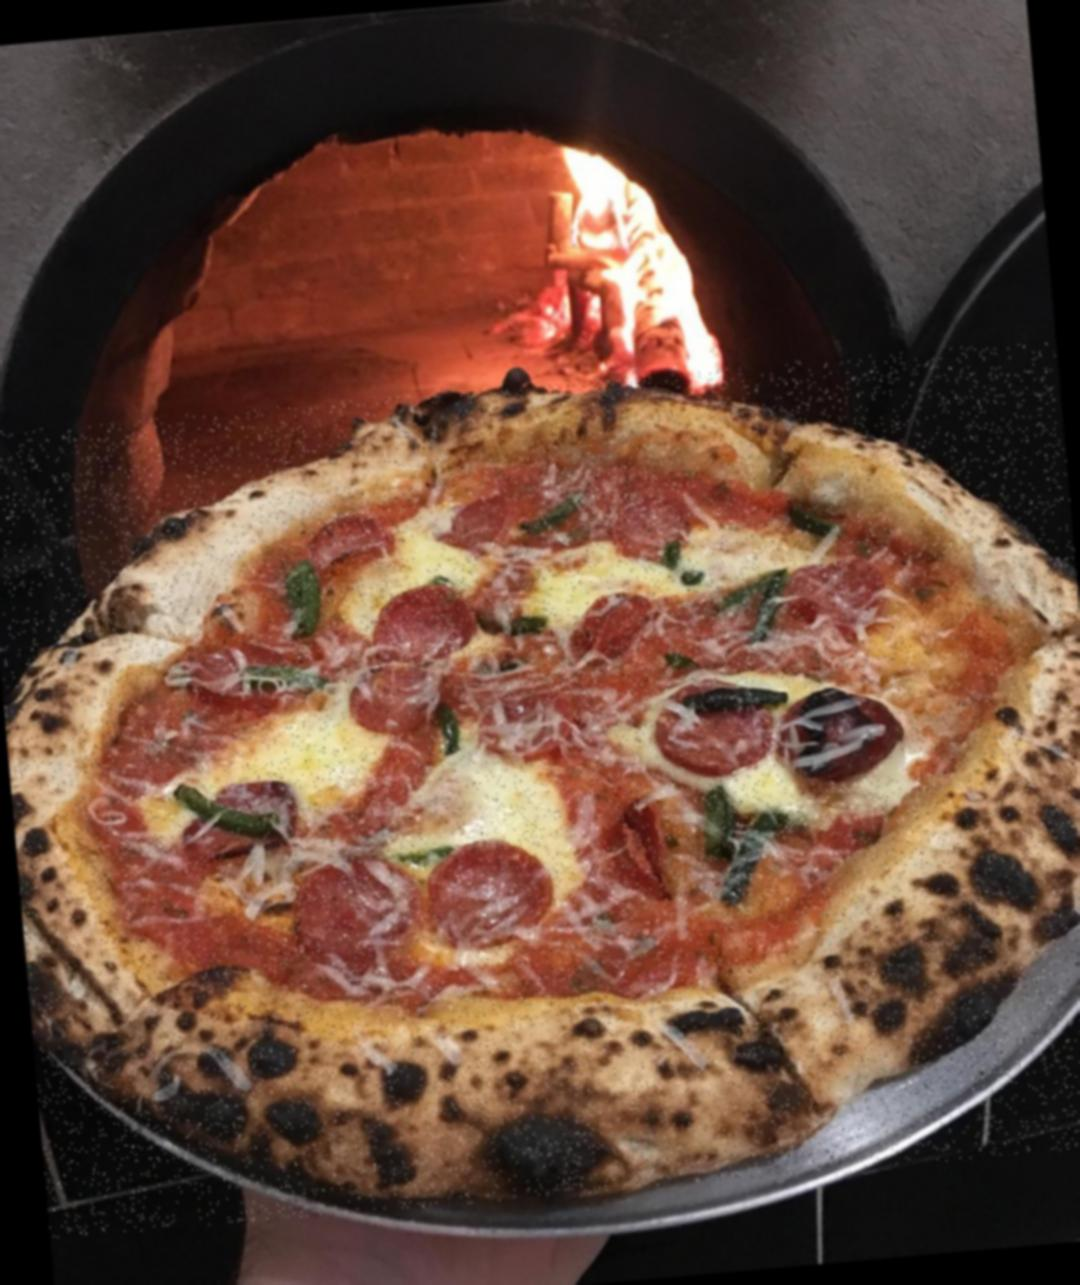Pepperoni: (424, 834, 558, 949), (290, 852, 421, 962), (776, 682, 904, 784), (652, 678, 768, 776), (769, 554, 889, 643), (179, 779, 300, 859), (369, 583, 478, 666), (346, 662, 450, 742), (191, 642, 302, 709), (476, 690, 578, 762), (305, 508, 400, 577), (570, 590, 654, 664), (610, 497, 694, 565), (442, 495, 515, 556)
Pizza: (0, 338, 1080, 1239)
